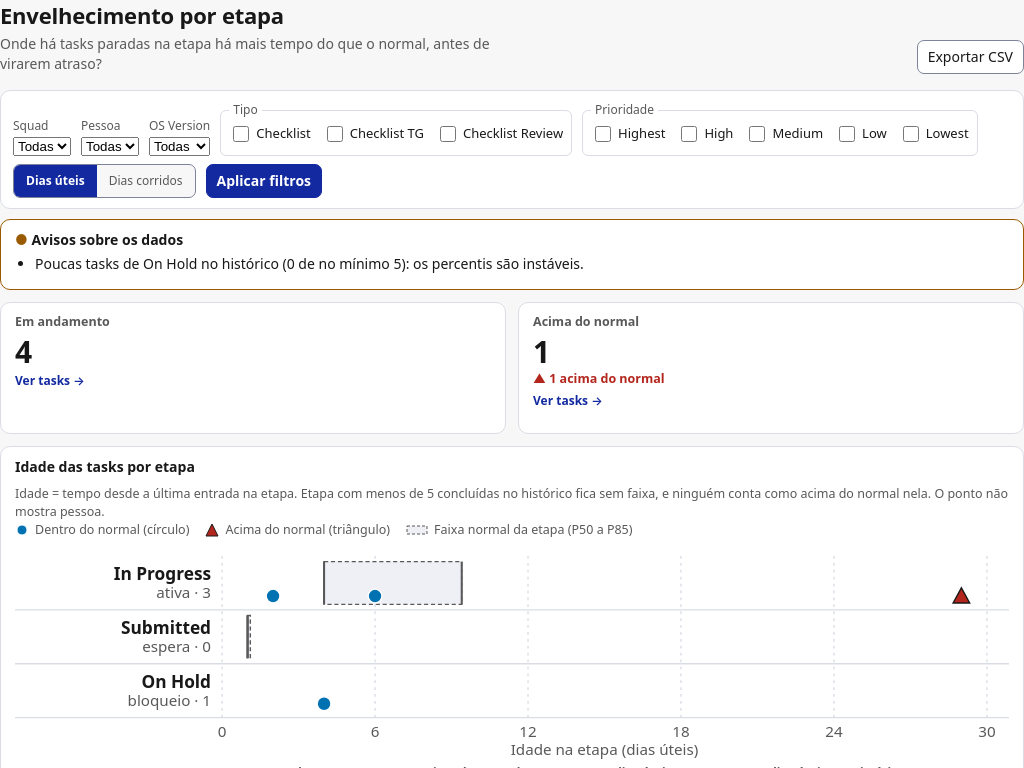
Test case: tela Envelhecimento por etapa › cartaoAcimaDoNormalAbreAsMesmasTasks
The width and height of the screenshot is (1024, 768).
What coordinates should you click on to do the following:
click the button "1 ▲ 1 acima do normal Ver tasks →"
I would click on:
 (607, 378)
Its box is [533,335,1009,409].
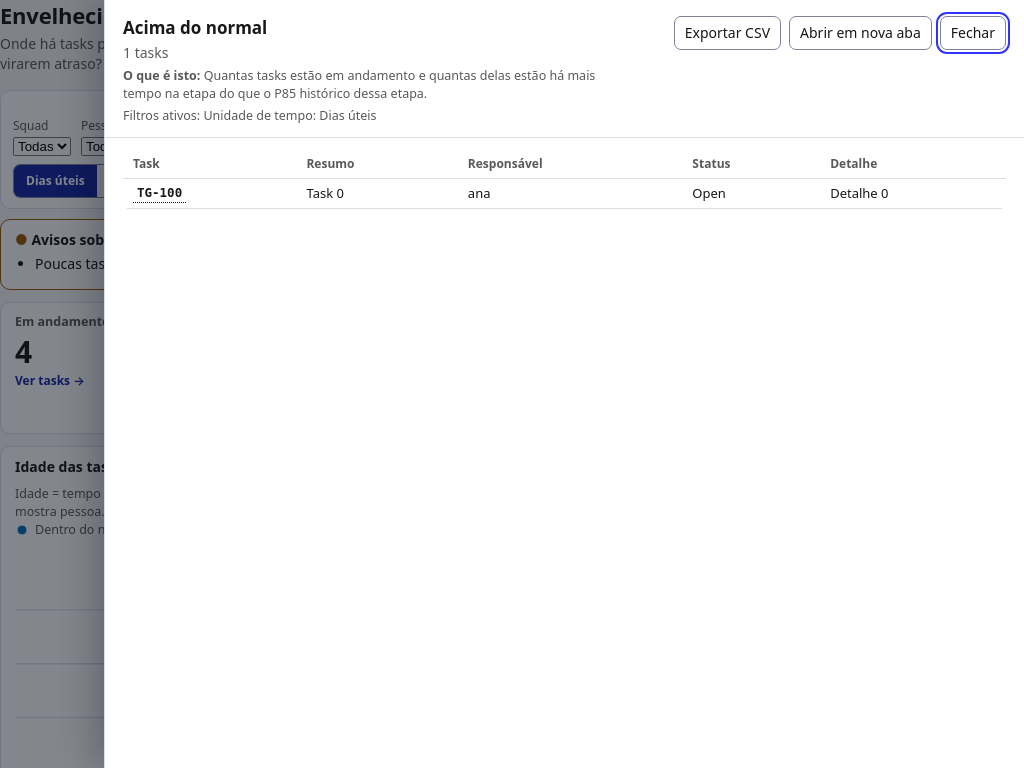
Expected: the dialog is shown
